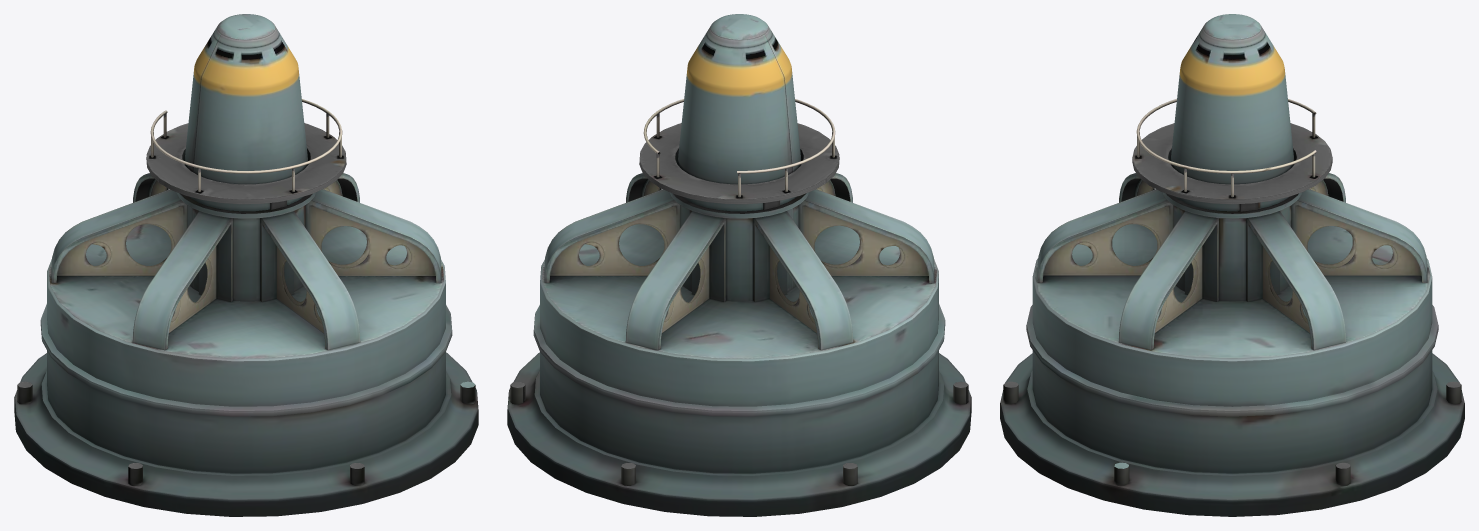
3 views of the same model, side by side, from view 1: azimuth 30°, elevation 25°; view 2: azimuth 150°, elevation 25°; view 3: azimuth 270°, elevation 25° (orthographic).
Visible parts, largest first — view 1: body0_model0_lod0_mesh0; view 2: body0_model0_lod0_mesh0; view 3: body0_model0_lod0_mesh0.
Part boxes in pixels (x1=…): body0_model0_lod0_mesh0: x1=14, y1=14, x2=478, y2=516; body0_model0_lod0_mesh0: x1=507, y1=14, x2=971, y2=516; body0_model0_lod0_mesh0: x1=1000, y1=14, x2=1464, y2=516.
Size of the model in its own units: 232 by 218 by 232.
1 material, 1 textured.
